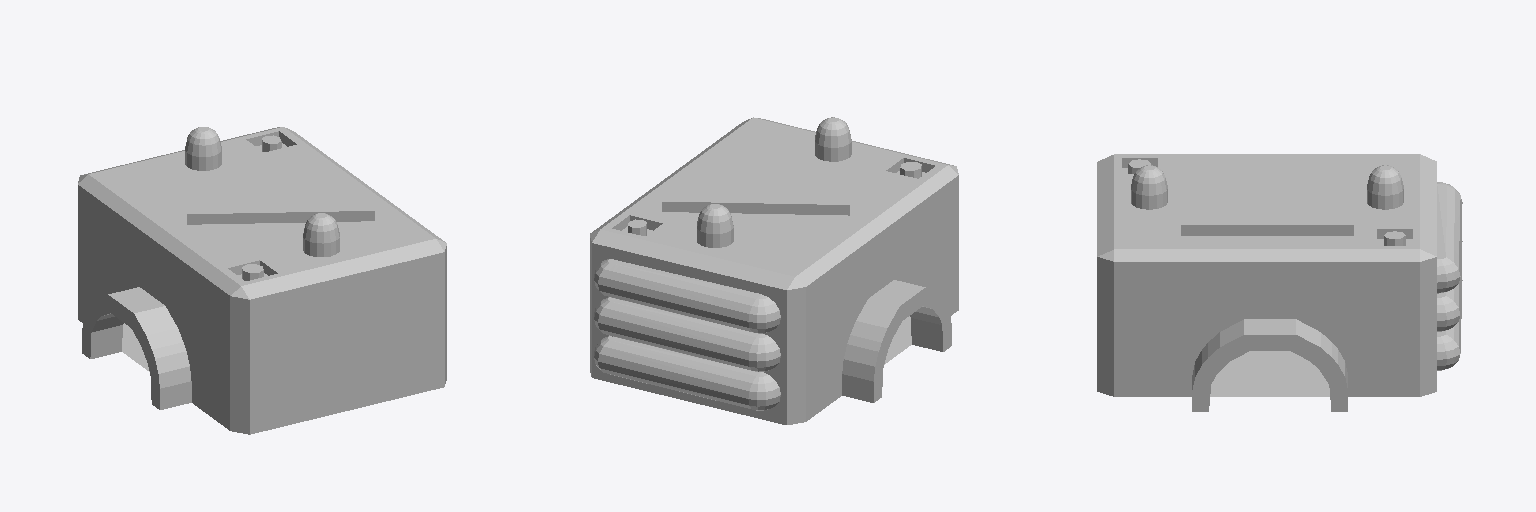
Rendered from NotGate.obj.
The picture shows the model from 3 angles: view 1: azimuth 30°, elevation 25°; view 2: azimuth 150°, elevation 25°; view 3: azimuth 270°, elevation 25°; orthographic projection.
Parts seen in each view (by area): view 1: Gate_NOT_Cube.034; view 2: Gate_NOT_Cube.034; view 3: Gate_NOT_Cube.034.
Part boxes in pixels (left/top/right/bottom): Gate_NOT_Cube.034: left=78, top=127, right=446, bottom=434; Gate_NOT_Cube.034: left=590, top=117, right=958, bottom=424; Gate_NOT_Cube.034: left=1097, top=154, right=1462, bottom=411.
Size of the model in its own units: 2.58 by 1.56 by 2.92.